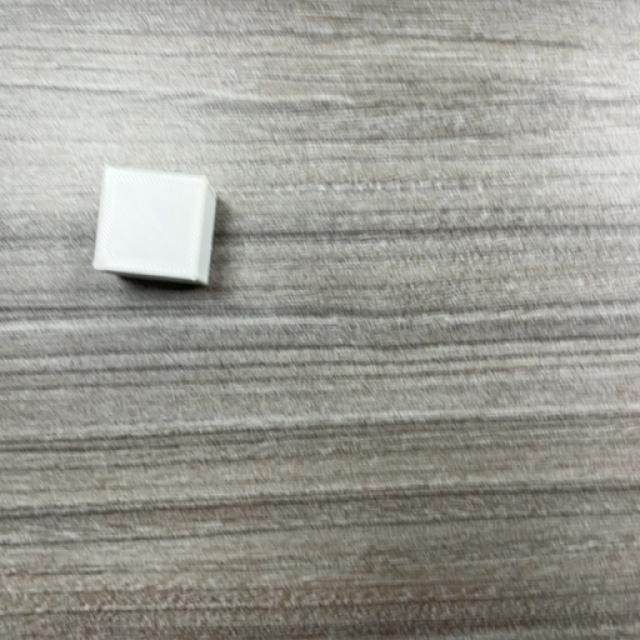Blanco: (91, 166, 218, 290)
